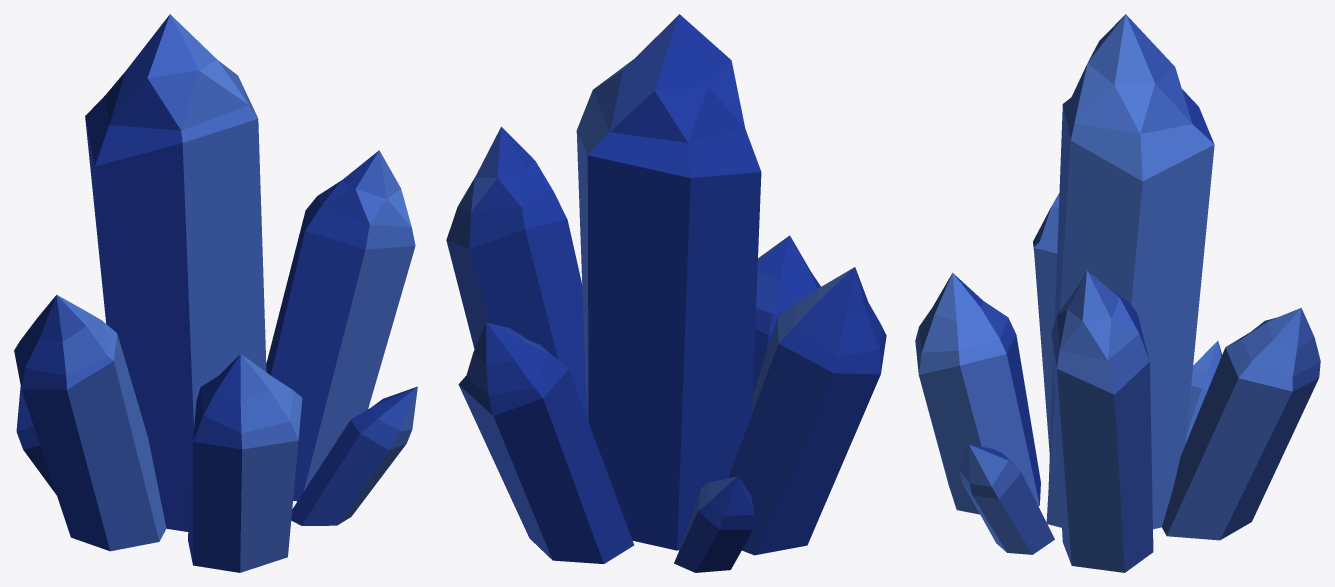
Rendered from Gem_Rock_Remake.glb.
3 views of the same model, side by side, from view 1: azimuth 30°, elevation 25°; view 2: azimuth 150°, elevation 25°; view 3: azimuth 270°, elevation 25° (orthographic). The views are drawn at different scales.
Visible parts, largest first — view 1: Gem_Rock_Remake; view 2: Gem_Rock_Remake; view 3: Gem_Rock_Remake.
Part boxes in pixels (x1=…): Gem_Rock_Remake: x1=14, y1=14, x2=417, y2=572; Gem_Rock_Remake: x1=446, y1=14, x2=886, y2=572; Gem_Rock_Remake: x1=915, y1=14, x2=1320, y2=572.
Size of the model in its own units: 4.28 by 5.01 by 3.83.
